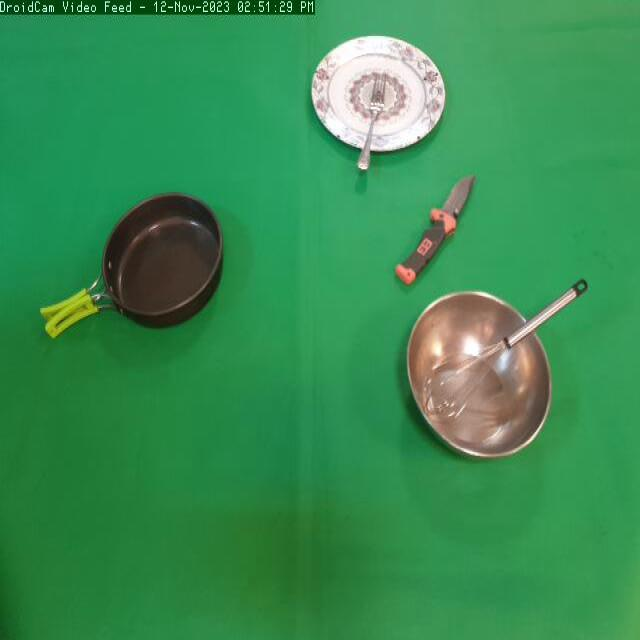bowl: (403, 290, 557, 468)
fork: (354, 67, 391, 174)
knife: (392, 163, 479, 295)
pan: (35, 190, 228, 359)
plate: (315, 28, 455, 169)
whisk: (421, 278, 597, 424)
